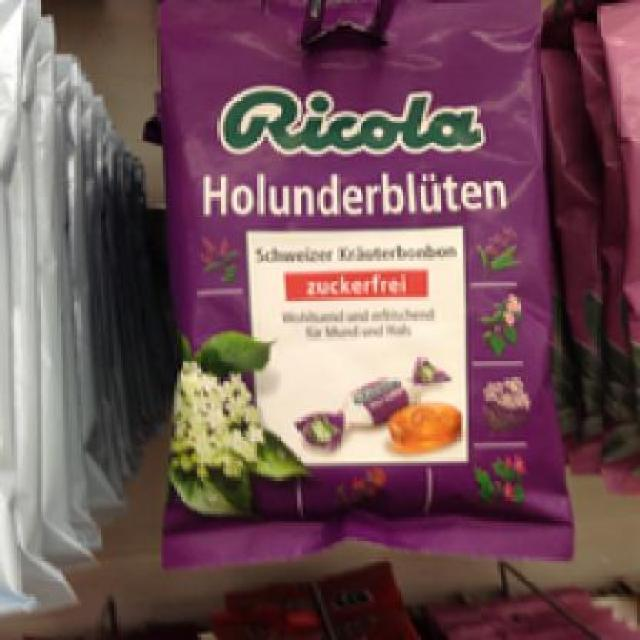Candy: (154, 0, 577, 566)
